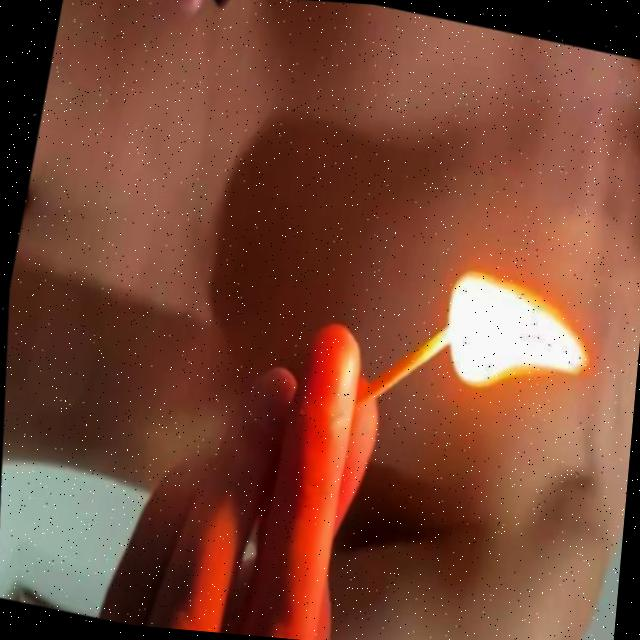fire: (419, 246, 612, 414)
